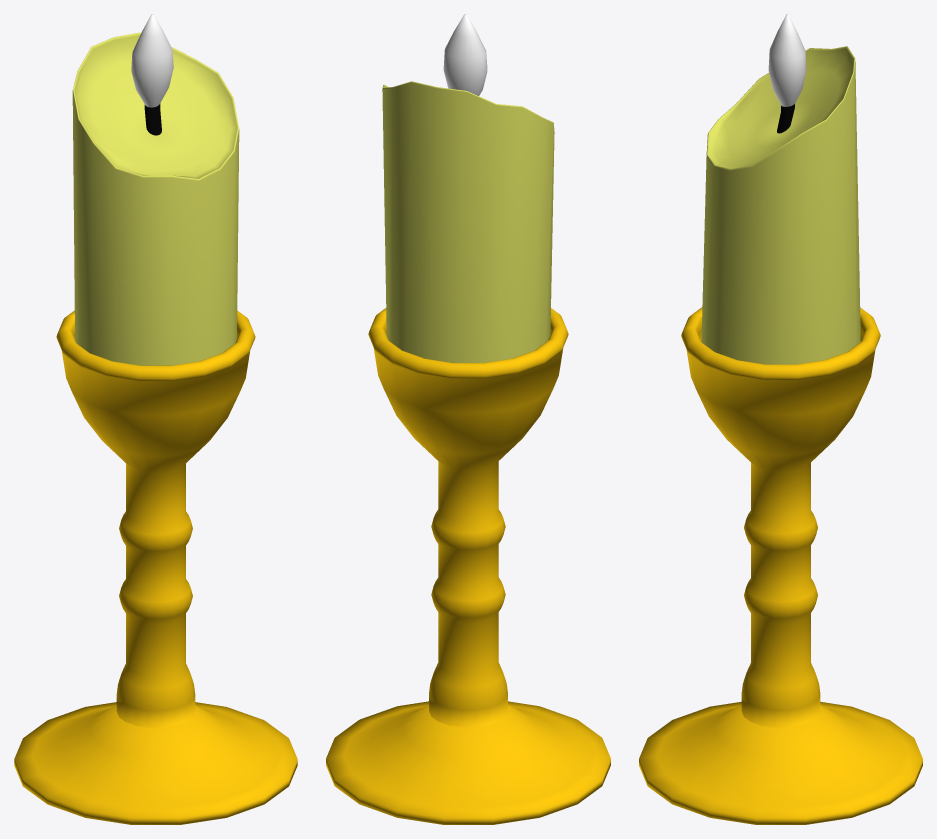
The picture shows the model from 3 angles, left to right: view 1: azimuth 30°, elevation 25°; view 2: azimuth 150°, elevation 25°; view 3: azimuth 270°, elevation 25°; orthographic projection.
Visible parts, largest first — view 1: Holder, Candle, Wick With Flame; view 2: Holder, Candle, Wick With Flame; view 3: Holder, Candle, Wick With Flame.
Part boxes in pixels (x1,y1,x2,y2): Holder: (14,310,297,824); Candle: (72,32,239,365); Wick With Flame: (131,14,173,107); Holder: (326,308,610,824); Candle: (382,81,554,362); Wick With Flame: (443,14,487,95); Holder: (639,307,922,824); Candle: (701,46,860,364); Wick With Flame: (768,14,806,106).
Size of the model in its own units: 0.6771 by 2.01 by 0.6875.
